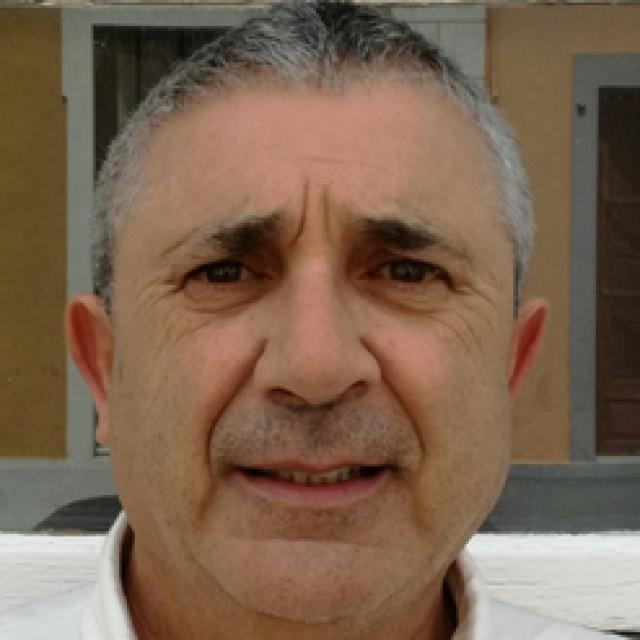Depress: (112, 89, 517, 619)
